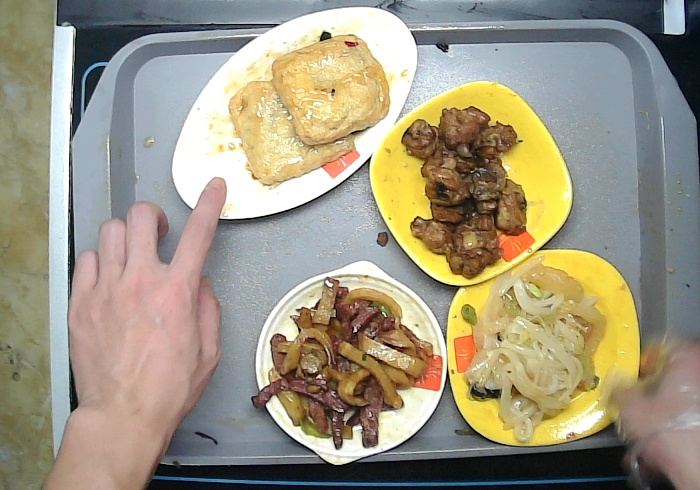SHKJ-Bao_Yu_Pan: (248, 254, 449, 472)
SHKJ-Huang_Se_Cai_Die: (368, 77, 576, 285)
SHKJ-Huang_Se_Si_Fang_Cai_Die: (442, 247, 643, 448)
SHKJ-Yu_Pan: (169, 7, 419, 223)
